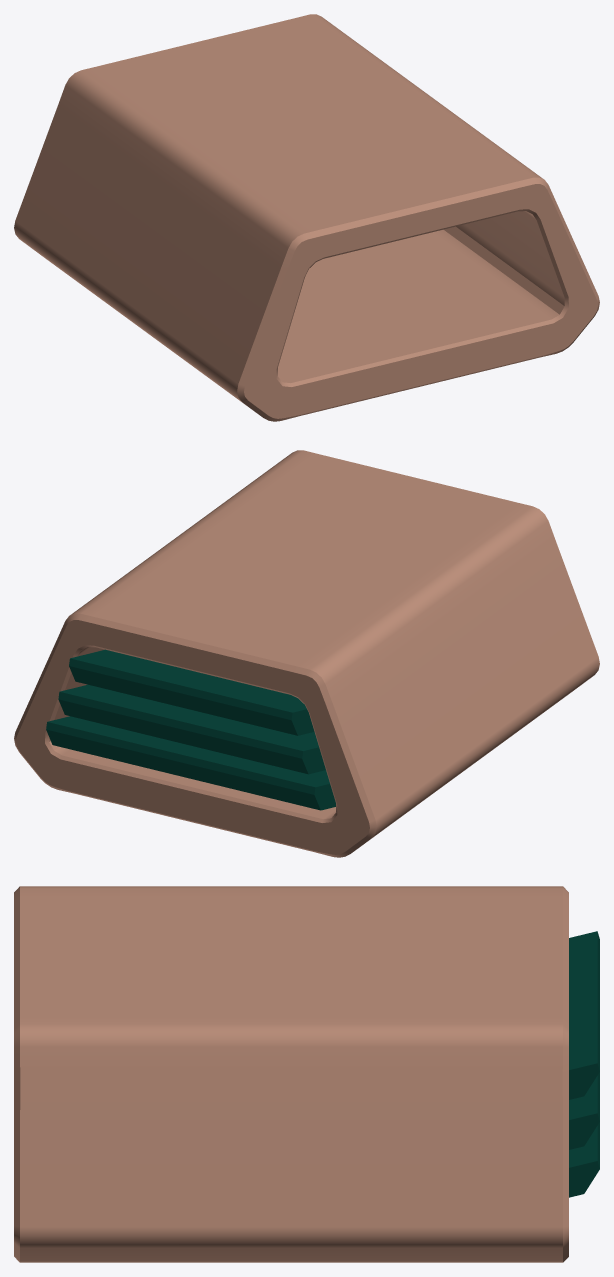
Rendered from GrappleCannonV1.fbx.
3 renders of one model, top to bottom at view 1: azimuth 30°, elevation 25°; view 2: azimuth 150°, elevation 25°; view 3: azimuth 270°, elevation 25°, orthographic. The views are drawn at different scales.
Visible parts, largest first — view 1: GrapplerBody; view 2: GrapplerBody; view 3: GrapplerBody.
Boxes of the visible parts, x1=… form: GrapplerBody: x1=14, y1=14, x2=599, y2=421; GrapplerBody: x1=14, y1=450, x2=599, y2=857; GrapplerBody: x1=14, y1=886, x2=599, y2=1262.
Bounding box in the file's own units: 0.00729 × 0.00349 × 0.00838.
